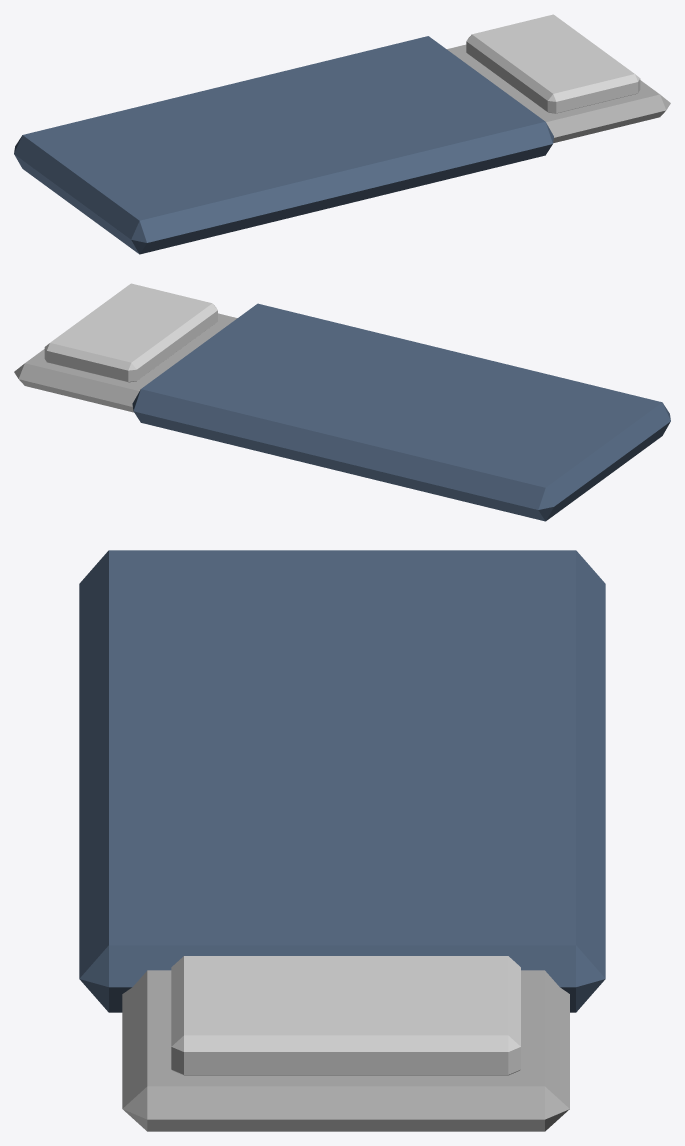
Rendered from Final_SleepingBag.fbx.
The picture shows the model from 3 angles, top to bottom: view 1: azimuth 30°, elevation 25°; view 2: azimuth 150°, elevation 25°; view 3: azimuth 270°, elevation 25°; orthographic projection. The views are drawn at different scales.
Visible parts, largest first — view 1: pCube40, pCube39, pCube38; view 2: pCube40, pCube39, pCube38; view 3: pCube40, pCube39, pCube38.
Part boxes in pixels (x1=…): pCube40: x1=14, y1=36, x2=553, y2=254; pCube39: x1=466, y1=14, x2=640, y2=113; pCube38: x1=447, y1=44, x2=670, y2=143; pCube40: x1=132, y1=303, x2=670, y2=521; pCube39: x1=44, y1=283, x2=217, y2=382; pCube38: x1=14, y1=313, x2=237, y2=412; pCube40: x1=79, y1=550, x2=605, y2=1012; pCube39: x1=171, y1=956, x2=520, y2=1075; pCube38: x1=122, y1=970, x2=569, y2=1131.
Bounding box in the file's own units: 63.81 × 4.59 × 26.54.
